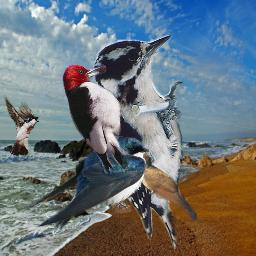Cuckoo: (126, 151, 197, 221)
Swallow: (21, 136, 149, 229), (3, 95, 39, 156)
Woodpecker: (93, 35, 188, 252), (62, 64, 130, 174)
